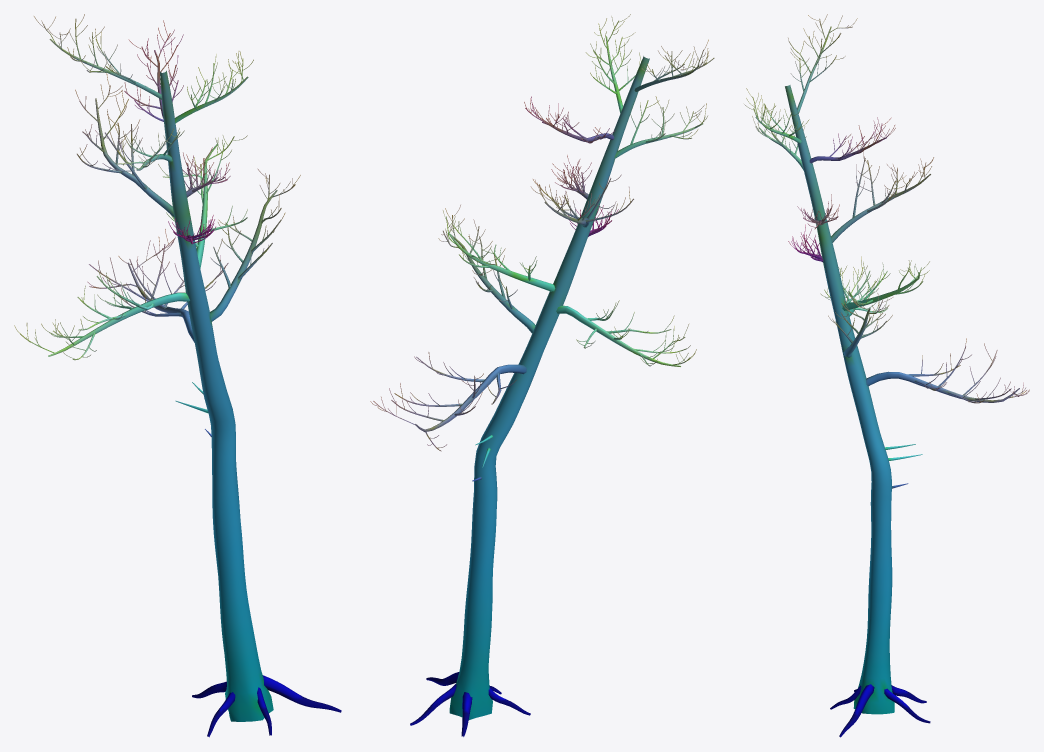
Rendered from pine-hero.glb.
The picture shows the model from 3 angles, left to right: view 1: azimuth 30°, elevation 25°; view 2: azimuth 150°, elevation 25°; view 3: azimuth 270°, elevation 25°; orthographic projection. The views are drawn at different scales.
Parts seen in each view (by area): view 1: bark; view 2: bark; view 3: bark.
Boxes of the visible parts, x1=… form: bark: x1=14, y1=14, x2=341, y2=737; bark: x1=370, y1=14, x2=714, y2=736; bark: x1=743, y1=14, x2=1029, y2=737.
Bounding box in the file's own units: 10.1 × 23.65 × 10.05.
